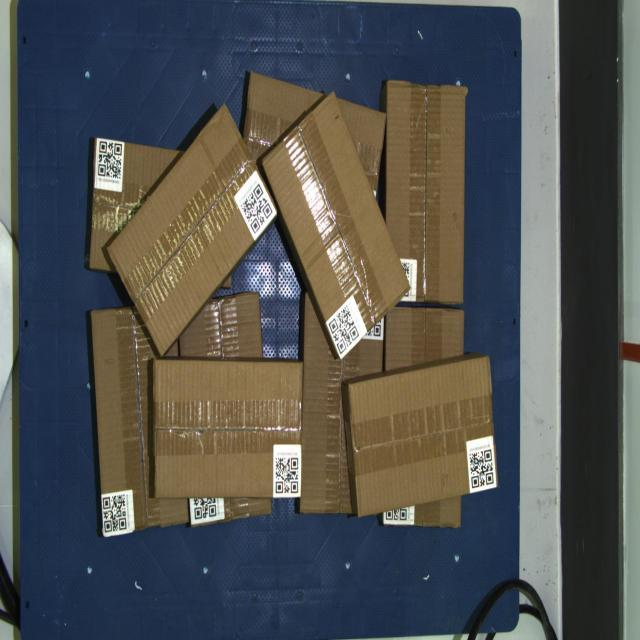box: (107, 102, 278, 358), (262, 90, 411, 360), (348, 356, 498, 518), (154, 360, 303, 498), (386, 80, 466, 304)
